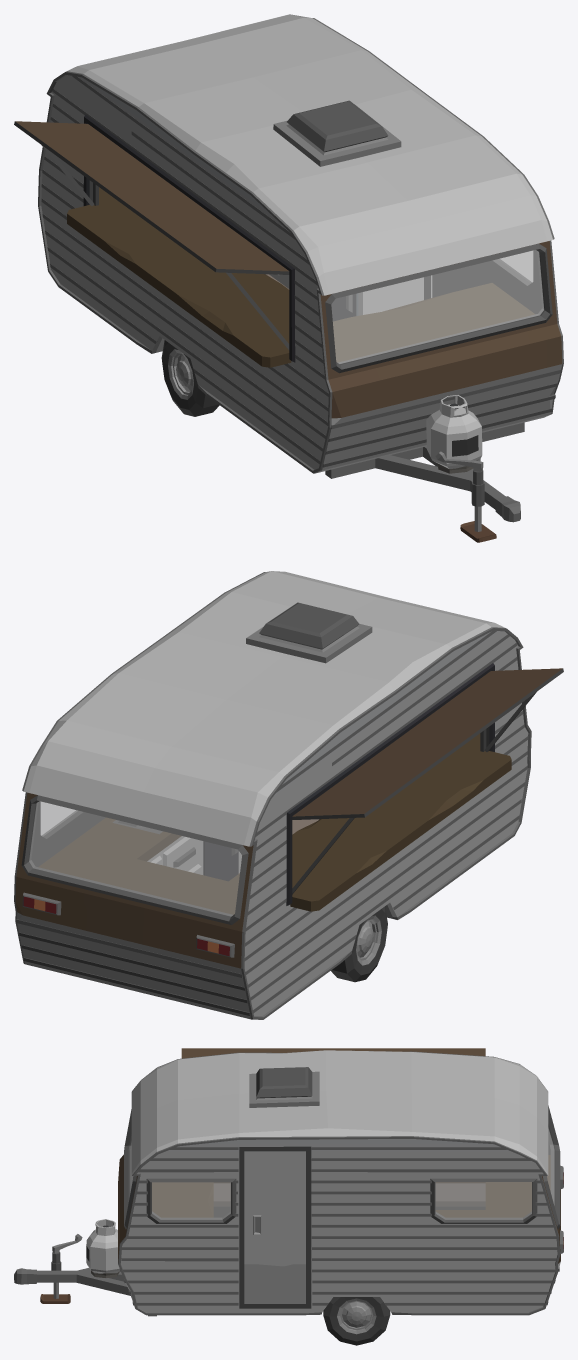
The model's file is food-trailer.glb.
The picture shows the model from 3 angles, top to bottom: view 1: azimuth 30°, elevation 25°; view 2: azimuth 150°, elevation 25°; view 3: azimuth 270°, elevation 25°; orthographic projection. The views are drawn at different scales.
Parts seen in each view (by area): view 1: food-trailer; view 2: food-trailer; view 3: food-trailer.
Boxes of the visible parts, x1,y1,x2,y2 form: food-trailer: [14, 14, 563, 542]; food-trailer: [14, 571, 563, 1019]; food-trailer: [14, 1048, 563, 1345].
Size of the model in its own units: 3.18 by 3.02 by 6.53.
Materials: 2 (1 with a texture image).
